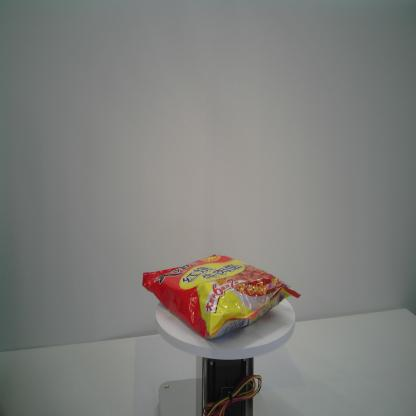Instant Noodles: (140, 252, 304, 343)
